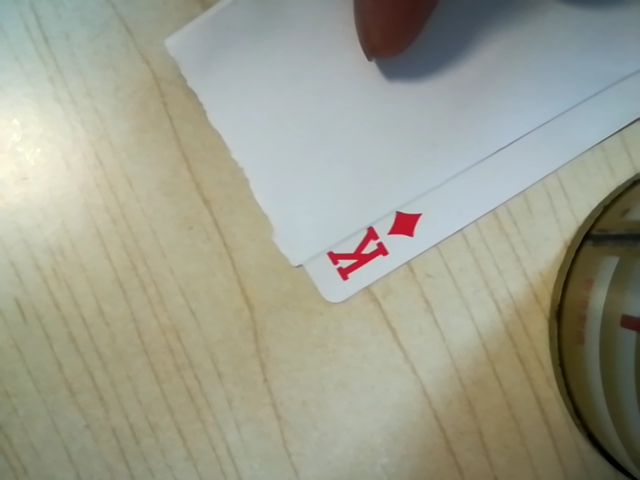fk k: (321, 209, 430, 284)
